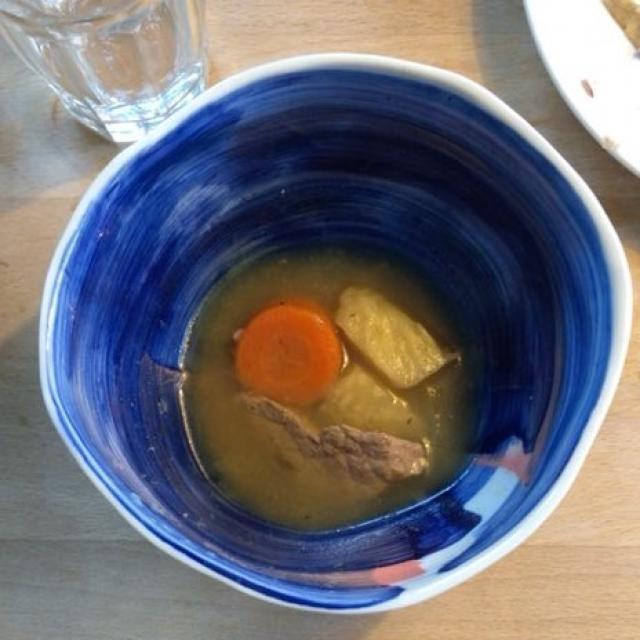carrot: (241, 306, 345, 402)
celeriac: (325, 280, 451, 443)
